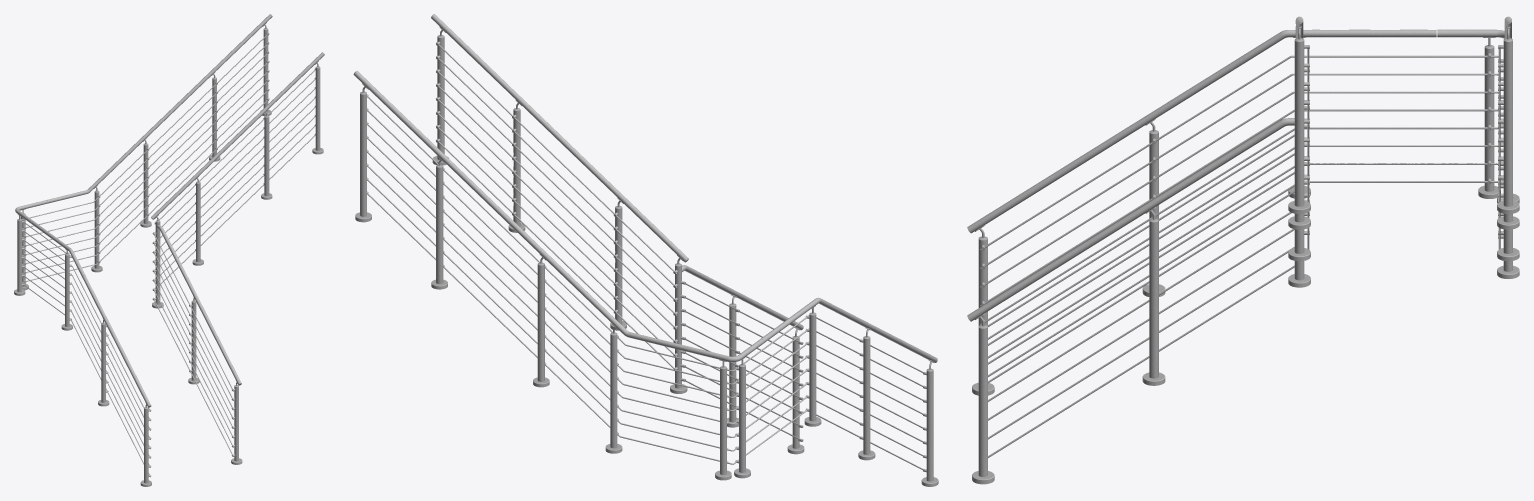
The model's file is L-Shaped_Railing_Circum-Round_Midrail.gltf.
The picture shows the model from 3 angles, left to right: view 1: azimuth 30°, elevation 25°; view 2: azimuth 150°, elevation 25°; view 3: azimuth 270°, elevation 25°; orthographic projection. The views are drawn at different scales.
Visible parts, largest first — view 1: LS103 & LS116 - Circum Round Post Material LS Material [8829 (×10), LS103 & LS116 - Circum Round Post Material LS Material [8828 (×4), Nested_Midrail Bend (Visible) Generic [8829848], Nested_Rail LS Material [8461322], Nested_Rail LS Material [8719226], Nested_Bend Bend [8719267]001, Nested_Rail LS Material [8719249], Nested_Bend Bend [8719259]; view 2: LS103 & LS116 - Circum Round Post Material LS Material [8829 (×11), LS103 & LS116 - Circum Round Post Material LS Material [8828 (×4), Nested_Rail LS Material [8461322], Nested_Midrail Bend (Visible) Generic [8829848], Nested_Rail LS Material [8719226], Nested_Bend Bend [8719267]001, Nested_Bend Bend [8719259], Nested_Rail LS Material [8719249]; view 3: Nested_Midrail Bend (Visible) Generic [8829848], LS103 & LS116 - Circum Round Post Material LS Material [8828 (×3), LS103 & LS116 - Circum Round Post Material LS Material [8829 (×4), Nested_Bend Bend [8719267]001, Nested_Rail LS Material [8719249], Nested_Bend Bend [8719267], Nested_Midrail_Single Generic [8828926]005, Nested_Midrail_Single Generic [8828926]008, Nested_Midrail_Single Generic [8828926]002, Nested_Midrail_Single Generic [8828926]006, Nested_Midrail_Single Generic [8828926]004, Nested_Midrail_Single Generic [8828926]007 (+3 smaller).
Boxes of the visible parts, x1,y1,x2,y2 form: LS103 & LS116 - Circum Round Post Material LS Material [8829 (×10): (17,30,268,483); LS103 & LS116 - Circum Round Post Material LS Material [8828 (×4): (191,68,320,461); Nested_Midrail Bend (Visible) Generic [8829848]: (23,222,107,390); Nested_Rail LS Material [8461322]: (151,52,324,219); Nested_Rail LS Material [8719226]: (115,14,272,165); Nested_Bend Bend [8719267]001: (156,225,241,384); Nested_Rail LS Material [8719249]: (82,276,150,406); Nested_Bend Bend [8719259]: (47,164,116,203); LS103 & LS116 - Circum Round Post Material LS Material [8829 (×11): (360,94,933,481); LS103 & LS116 - Circum Round Post Material LS Material [8828 (×4): (437,37,799,448); Nested_Rail LS Material [8461322]: (431,14,688,261); Nested_Midrail Bend (Visible) Generic [8829848]: (738,315,861,460); Nested_Rail LS Material [8719226]: (354,71,586,295); Nested_Bend Bend [8719267]001: (682,265,803,329); Nested_Bend Bend [8719259]: (584,293,688,351); Nested_Rail LS Material [8719249]: (837,308,937,362); Nested_Midrail Bend (Visible) Generic [8829848]: (1155,55,1487,270); LS103 & LS116 - Circum Round Post Material LS Material [8828 (×3): (978,41,1304,476); LS103 & LS116 - Circum Round Post Material LS Material [8829 (×4): (978,41,1512,325); Nested_Bend Bend [8719267]001: (967,118,1294,321); Nested_Rail LS Material [8719249]: (967,64,1232,232); Nested_Bend Bend [8719267]: (1230,29,1435,69); Nested_Midrail_Single Generic [8828926]005: (987,134,1294,326); Nested_Midrail_Single Generic [8828926]008: (988,190,1294,383); Nested_Midrail_Single Generic [8828926]002: (988,229,1294,420); Nested_Midrail_Single Generic [8828926]006: (988,172,1294,364); Nested_Midrail_Single Generic [8828926]004: (988,265,1294,457); Nested_Midrail_Single Generic [8828926]007: (988,153,1294,345).
Bounding box in the file's own units: 3.06 × 3.48 × 2.79.
